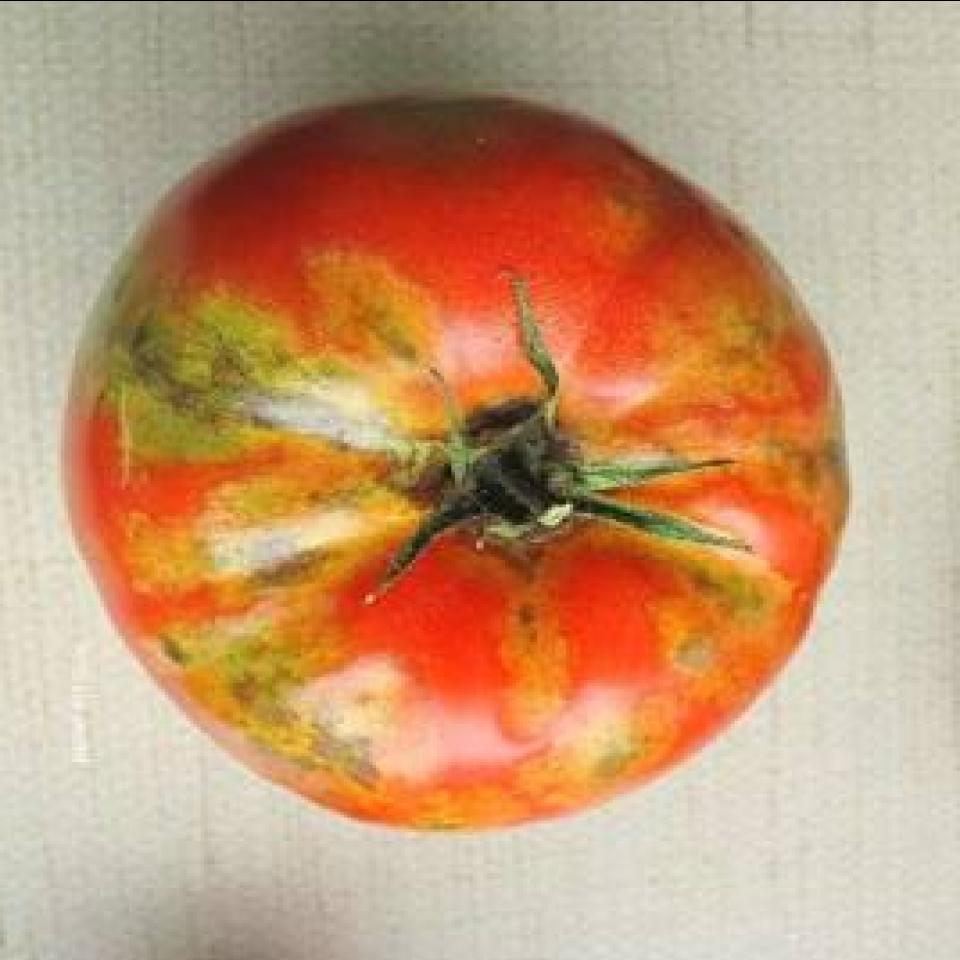Spotted wilt Virus: (68, 105, 845, 825)
